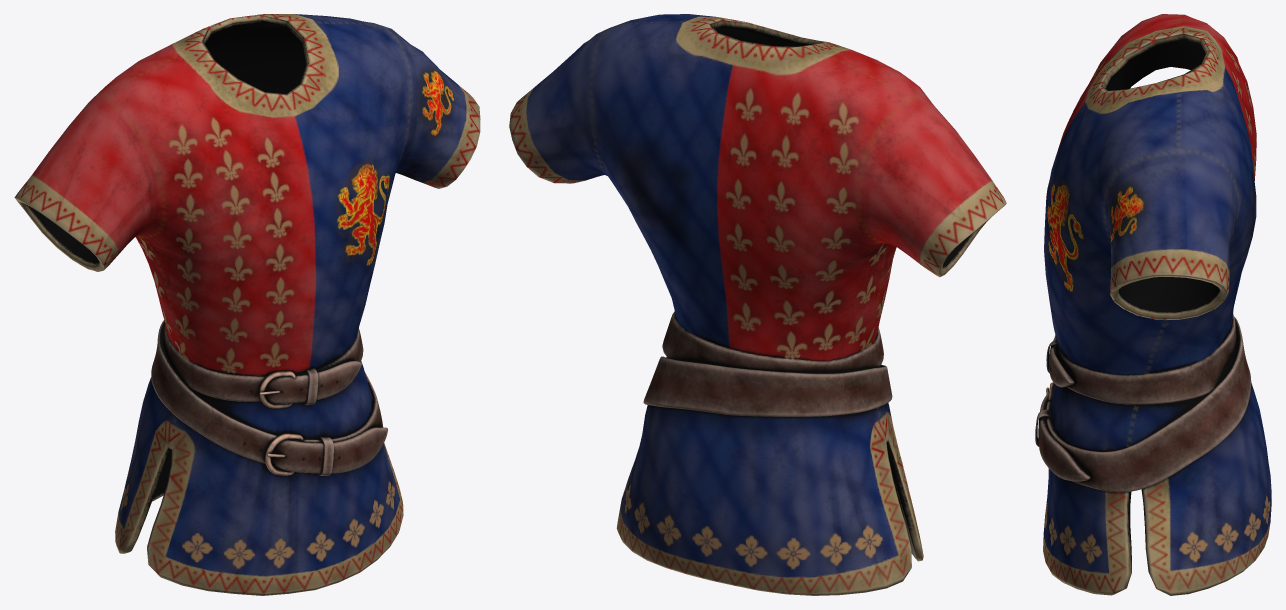
The model's file is tunic-medieval-animation.glb.
3 renders of one model, left to right at view 1: azimuth 30°, elevation 25°; view 2: azimuth 150°, elevation 25°; view 3: azimuth 270°, elevation 25°, orthographic. The views are drawn at different scales.
Parts seen in each view (by area): view 1: Tunic; view 2: Tunic; view 3: Tunic.
Boxes of the visible parts, box(x1,y1,x2,y2) form: Tunic: box(14, 14, 480, 595); Tunic: box(509, 14, 1006, 595); Tunic: box(1035, 14, 1271, 595).
Size of the model in its own units: 83.93 by 92.35 by 39.3.
Materials: 1 (1 with a texture image).
